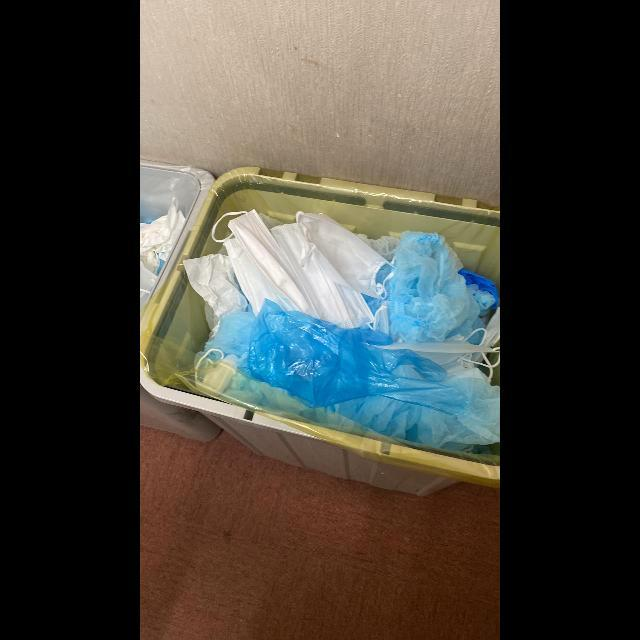paper: (182, 254, 253, 331)
plastic_bag: (248, 299, 469, 417)
